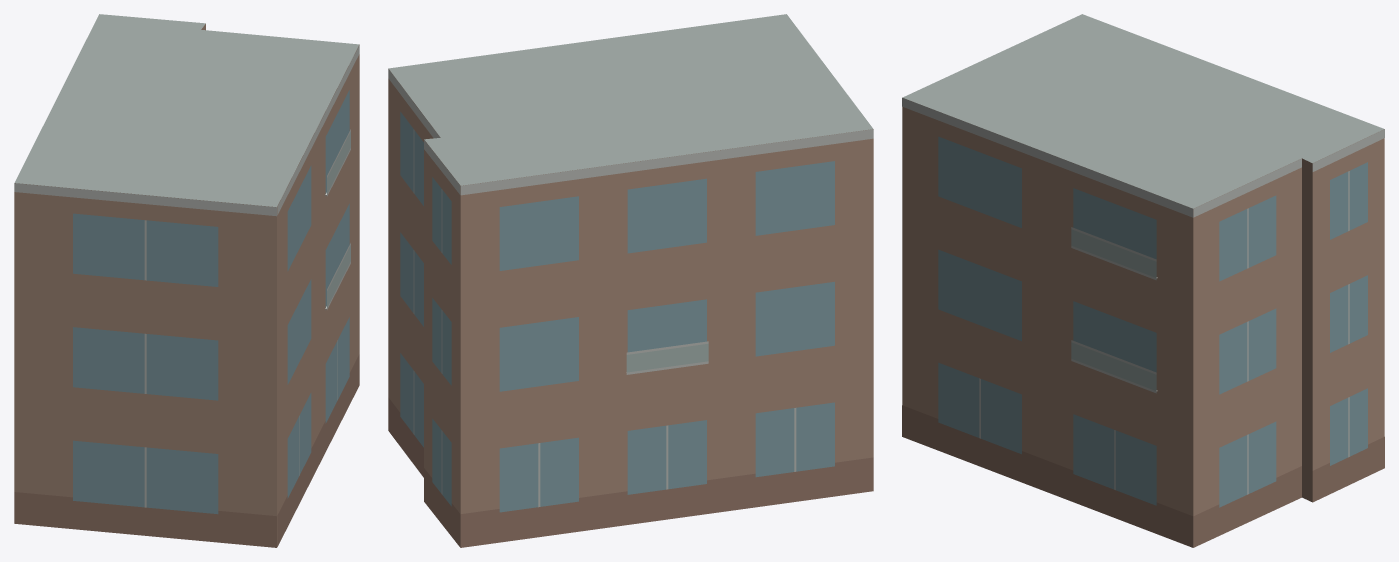
The model's file is survey-upis-32689386.glb.
3 renders of one model, left to right at view 1: azimuth 30°, elevation 25°; view 2: azimuth 150°, elevation 25°; view 3: azimuth 270°, elevation 25°, orthographic. The views are drawn at different scales.
Parts seen in each view (by area): view 1: survey-upis-32689386.tmp; view 2: survey-upis-32689386.tmp; view 3: survey-upis-32689386.tmp.
Boxes of the visible parts, x1=… form: survey-upis-32689386.tmp: x1=14, y1=14, x2=359, y2=547; survey-upis-32689386.tmp: x1=388, y1=14, x2=873, y2=547; survey-upis-32689386.tmp: x1=902, y1=14, x2=1384, y2=547.
Bounding box in the file's own units: 11.27 × 9.15 × 11.8.
